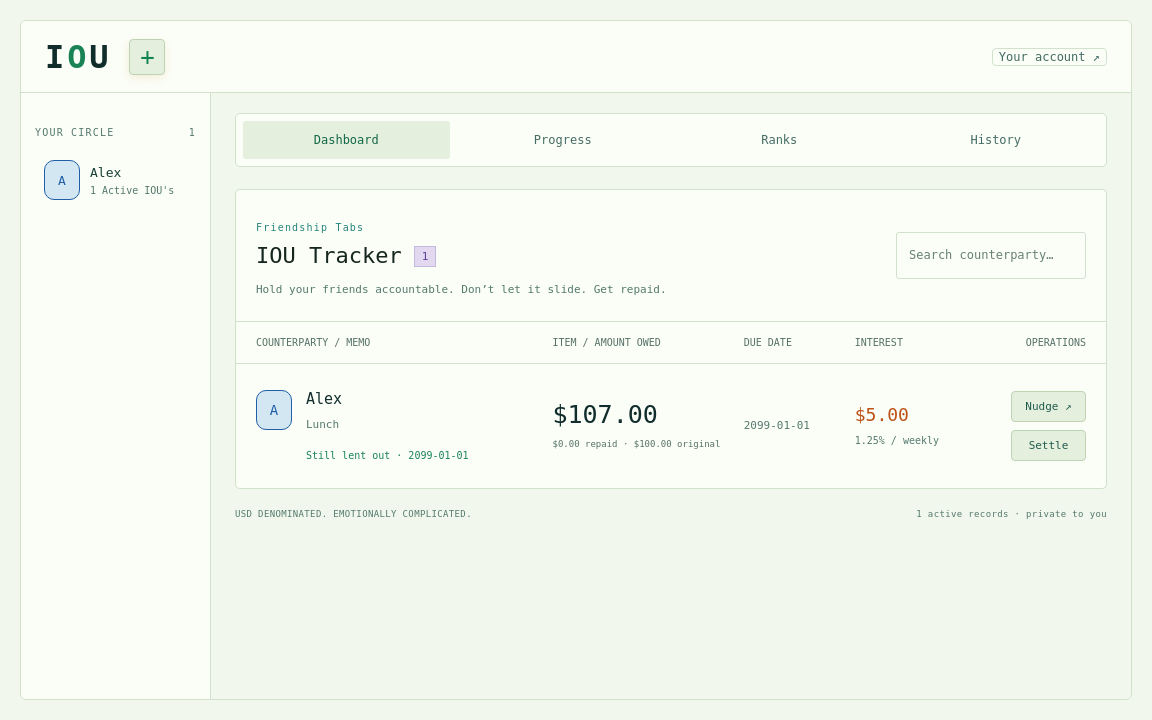
Test: filters voids and opens the real-email flow with only three polite tones
This screenshot has width=1152, height=720.
What coordinates should you click on to do the following:
click the button "Nudge ↗"
I would click on:
 (1048, 406)
Its box is [1011,391,1086,422].
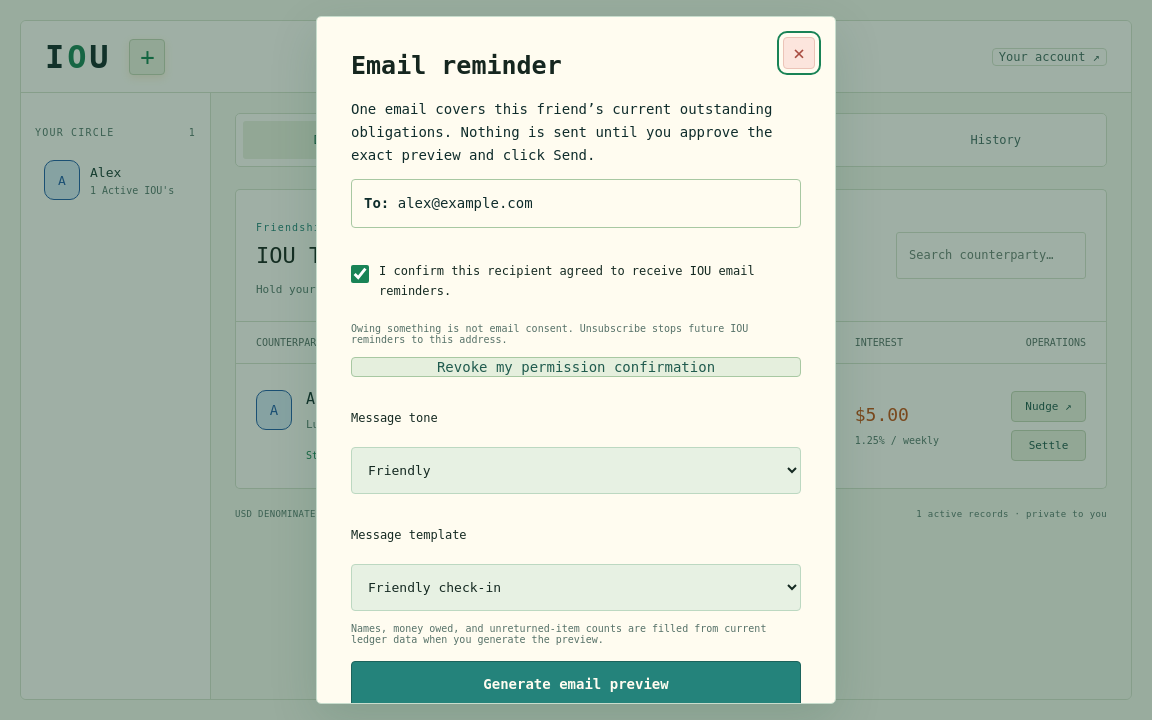
Expected: the checkbox labelled "I confirm this recipient agreed" is shown, [351,265,369,283]
Expected: the button "Generate email preview" is shown, [351,661,801,704]
